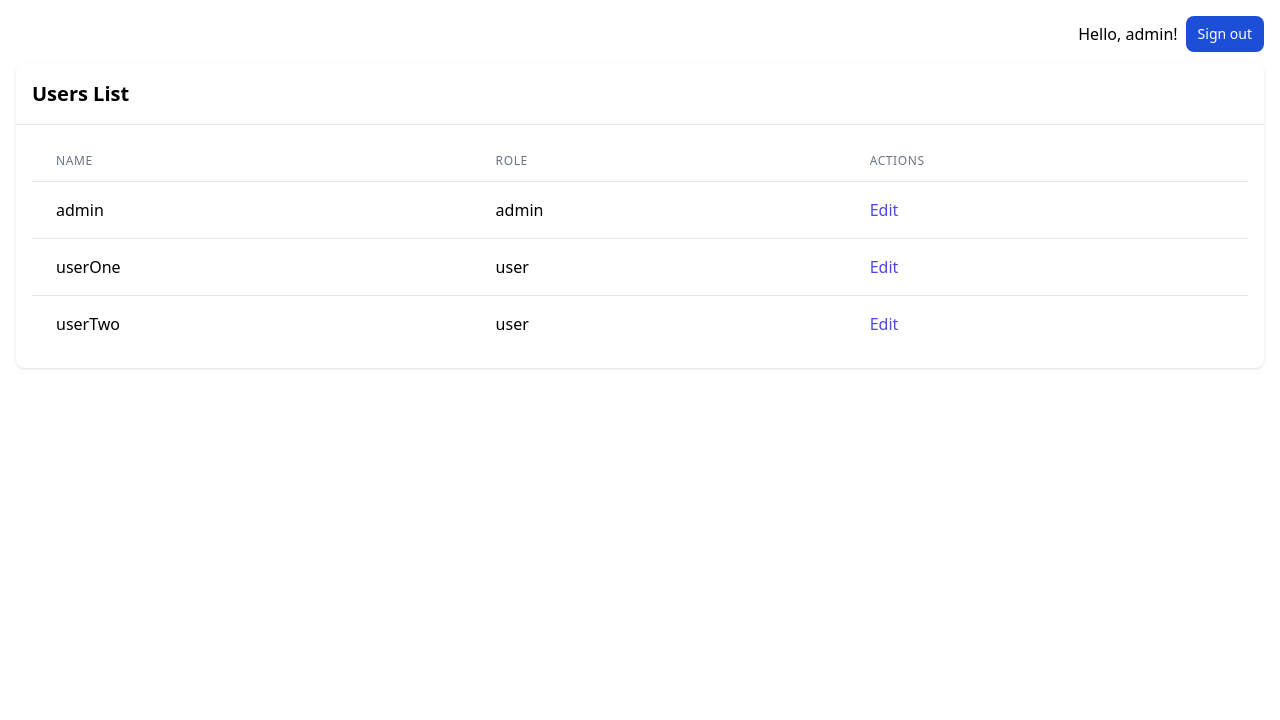
Test case: Users List › should update user
This screenshot has width=1280, height=720.
Click the 1st button with test id "edit-user": coordinates (885, 210) [870, 198, 899, 222]
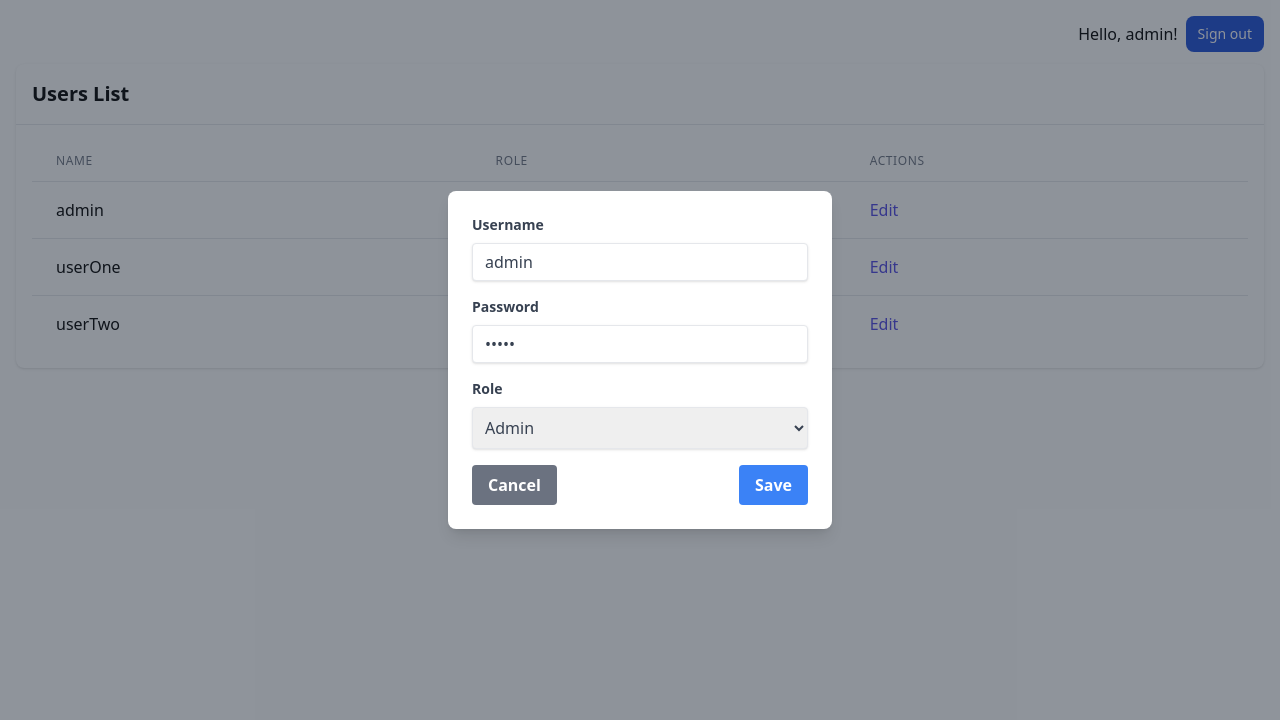
Replace the text in the field named "name" with "Updated Name": coordinates (640, 262) [472, 243, 808, 281]
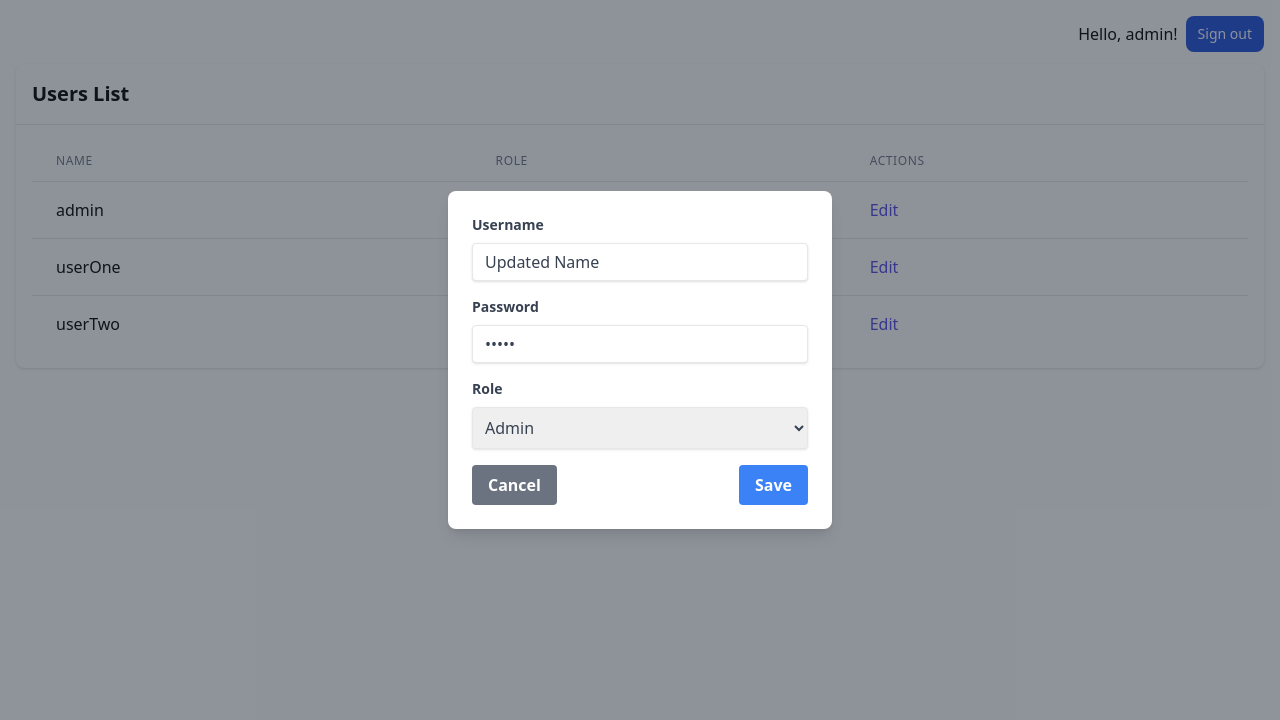
Click the submit button: coordinates (774, 485) [739, 465, 808, 505]
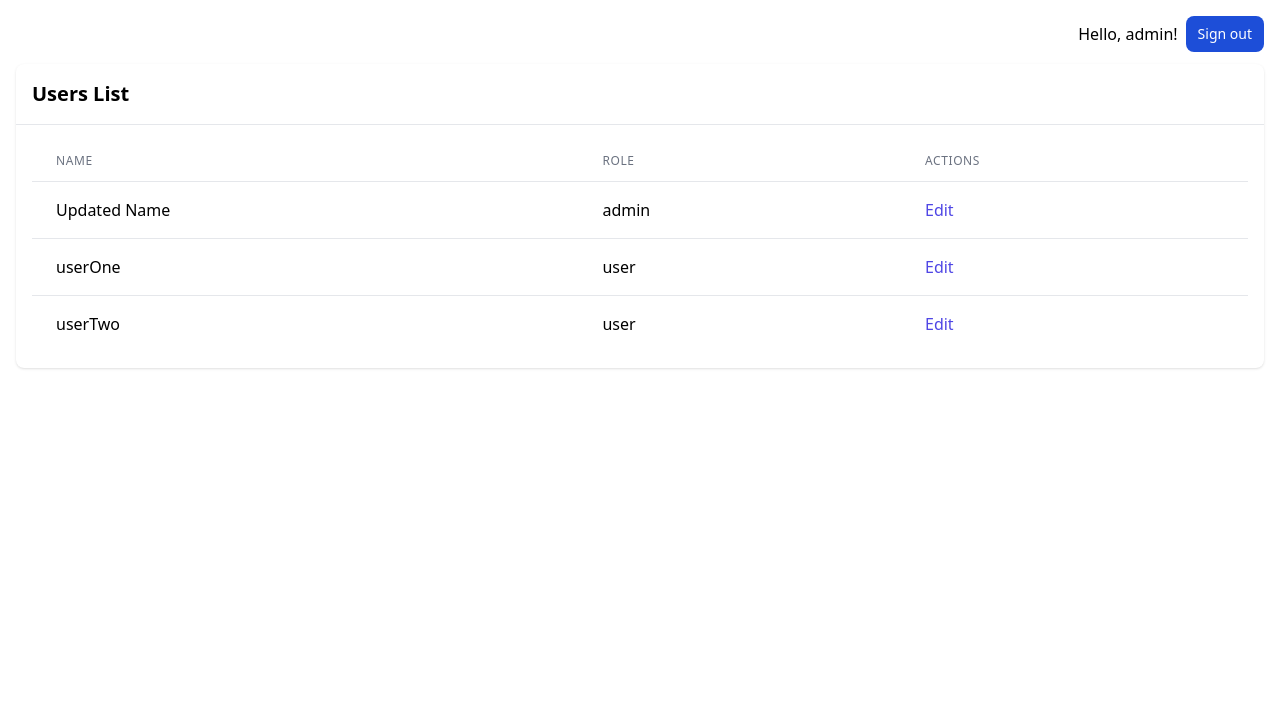
Check: the cell "Updated Name" is shown, box [32, 182, 578, 238]
